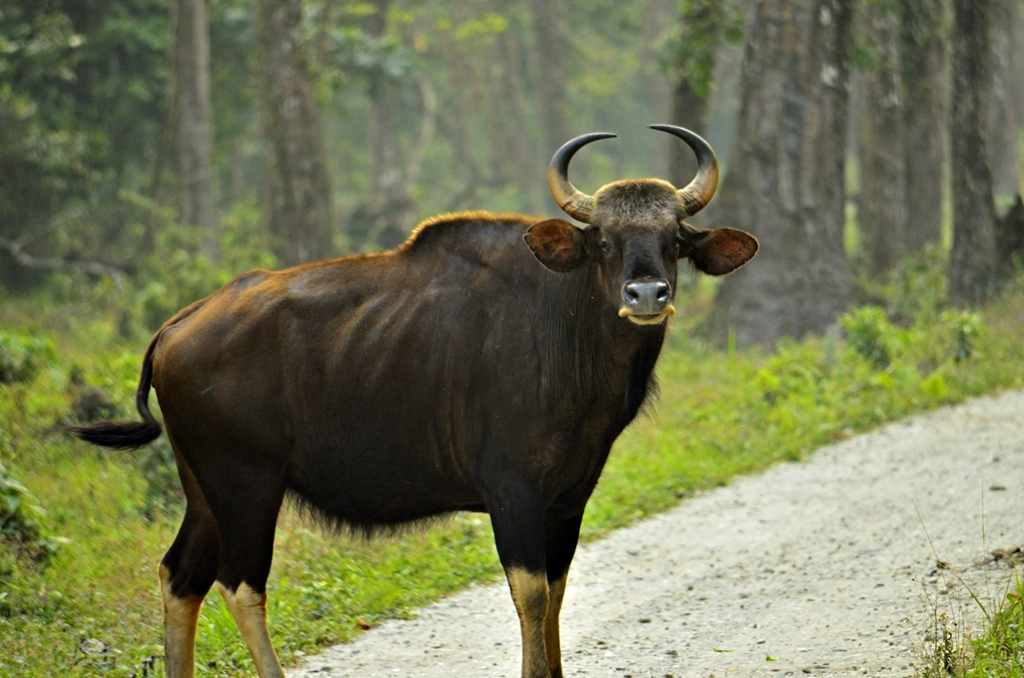bison: (91, 124, 764, 678)
